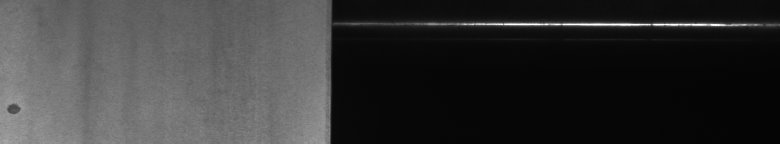fi: (4, 96, 25, 120)
